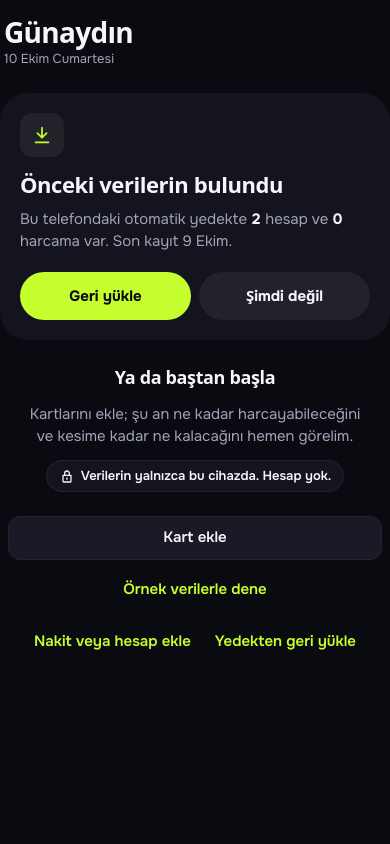
Scenario: HomePage first launch › "Şimdi değil" removes the offer and brings the first-launch content back
Click the button "Şimdi değil". click: [284, 296]
box: [199,272,370,320]
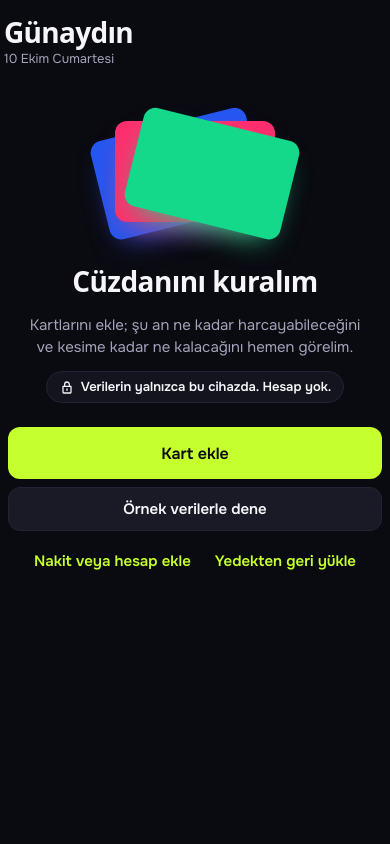
Result: the heading "Önceki verilerin bulundu" is gone
Result: the heading "Cüzdanını kuralım" is shown at [72,261,318,302]
